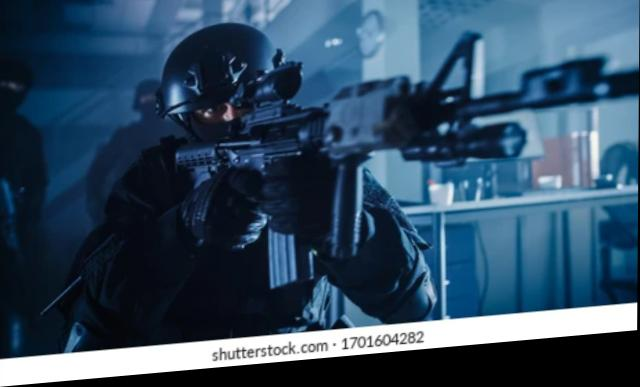other: (99, 28, 374, 344)
